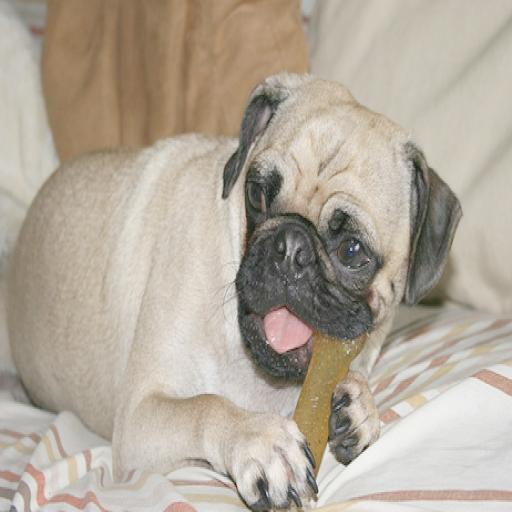dog_face: (239, 68, 450, 361)
